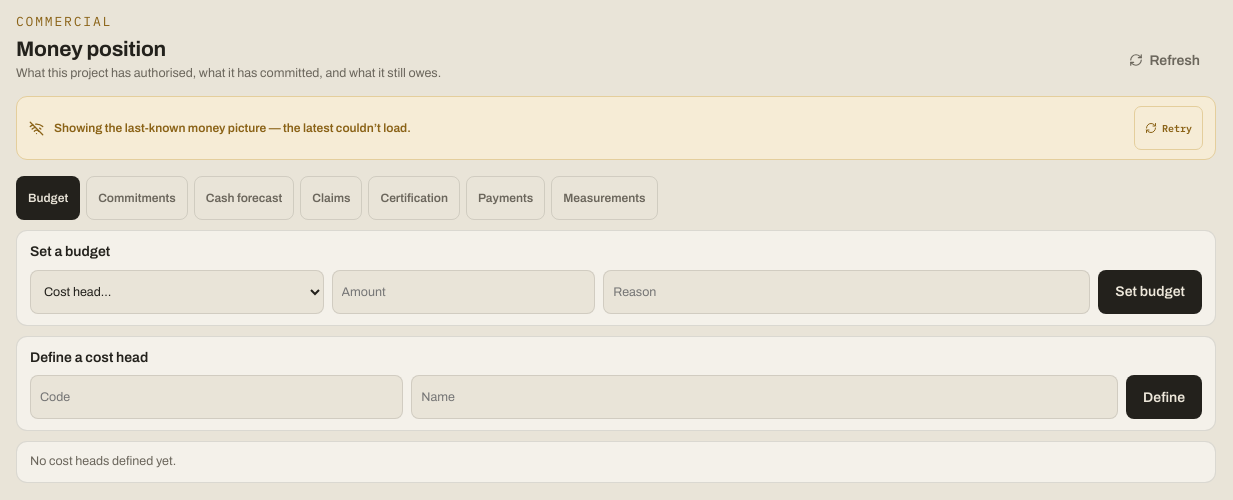
Test: Task 7B-ii (§M) — the rendered claim tabs never dereference an absent claim › S3: a CACHED line source whose refresh failed is stale, not an empty project
The width and height of the screenshot is (1233, 500).
Step 1. Click the button with test id "commercial-tab-measurements" → (604, 198), box [551,176,658,220]
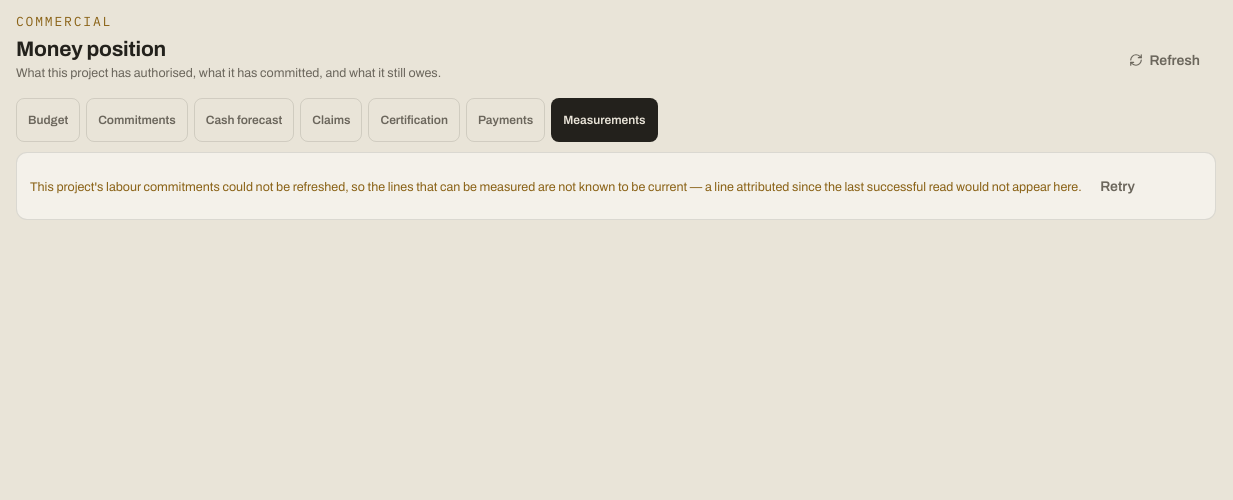
Expected: the button with test id "commercial-measurements-retry" is shown, [1084,164,1151,208]
Expected: the element with test id "commercial-measurements-stale" is shown, [16,152,1216,220]
